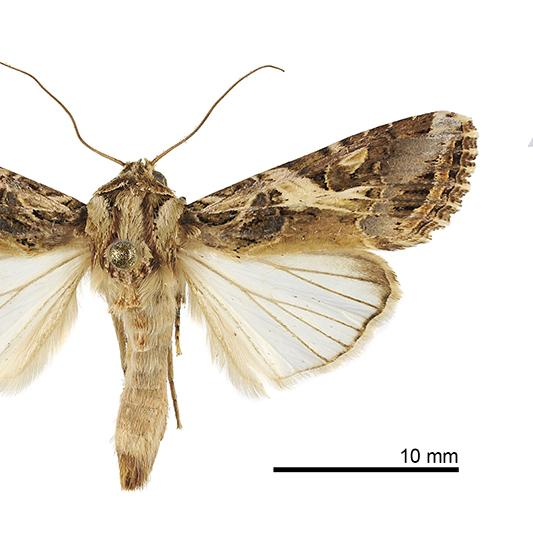Spodoptera litura: (1, 61, 480, 491)
